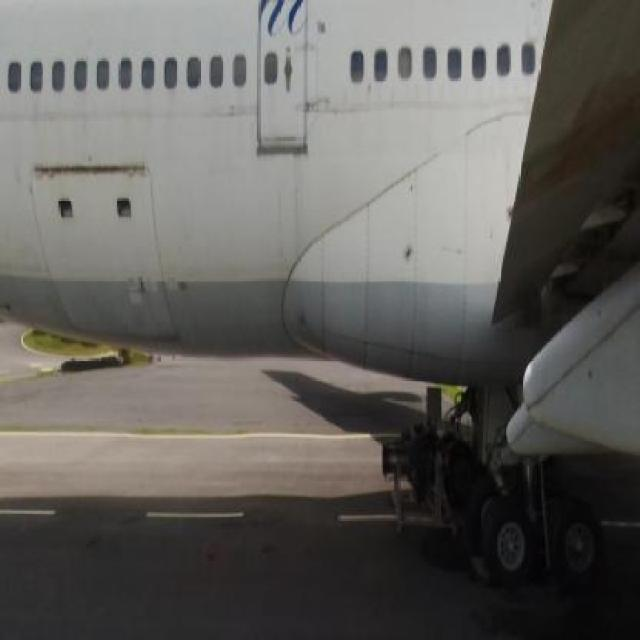Scartch: (18, 149, 157, 191), (305, 88, 384, 124), (315, 8, 330, 44)
